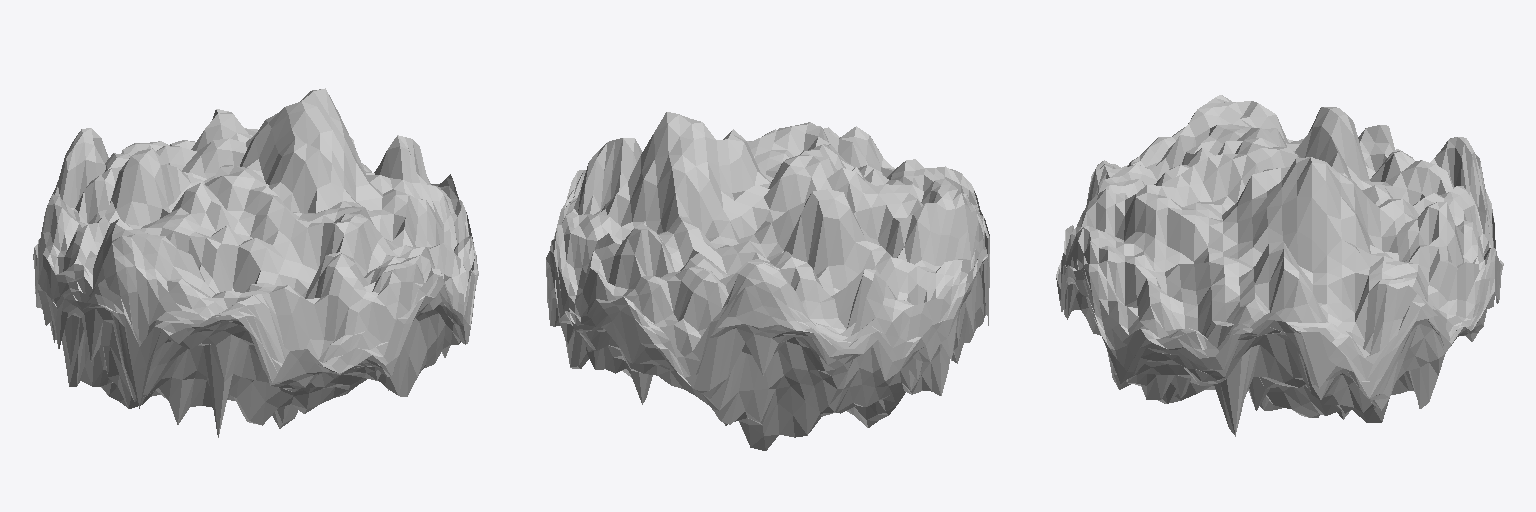
Rendered from medium-island.obj.
The picture shows the model from 3 angles: view 1: azimuth 30°, elevation 25°; view 2: azimuth 150°, elevation 25°; view 3: azimuth 270°, elevation 25°; orthographic projection.
Bounding box in the file's own units: 15 × 10 × 15.